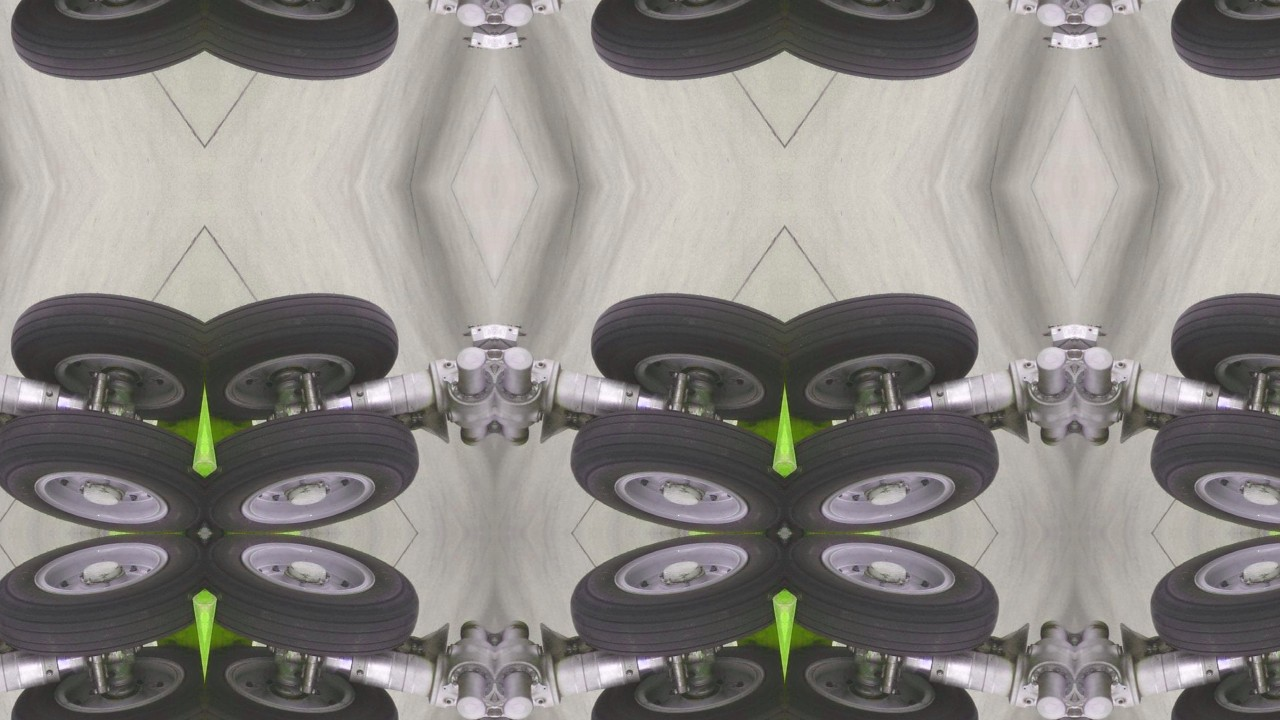wheel: (204, 269, 409, 430), (580, 269, 785, 430), (785, 269, 990, 430), (0, 269, 204, 430), (204, 533, 430, 676), (559, 533, 785, 676), (785, 533, 1011, 676), (204, 391, 430, 533), (559, 391, 785, 533), (785, 391, 1011, 533), (0, 533, 204, 676), (0, 391, 204, 533), (204, 0, 409, 104), (580, 0, 785, 104), (785, 0, 990, 104), (0, 0, 204, 104), (1140, 533, 1280, 676), (1140, 391, 1280, 533), (1161, 269, 1280, 430), (204, 637, 409, 720), (580, 637, 785, 720), (785, 637, 990, 720), (0, 637, 204, 720), (1161, 0, 1280, 104), (1161, 637, 1280, 720)
